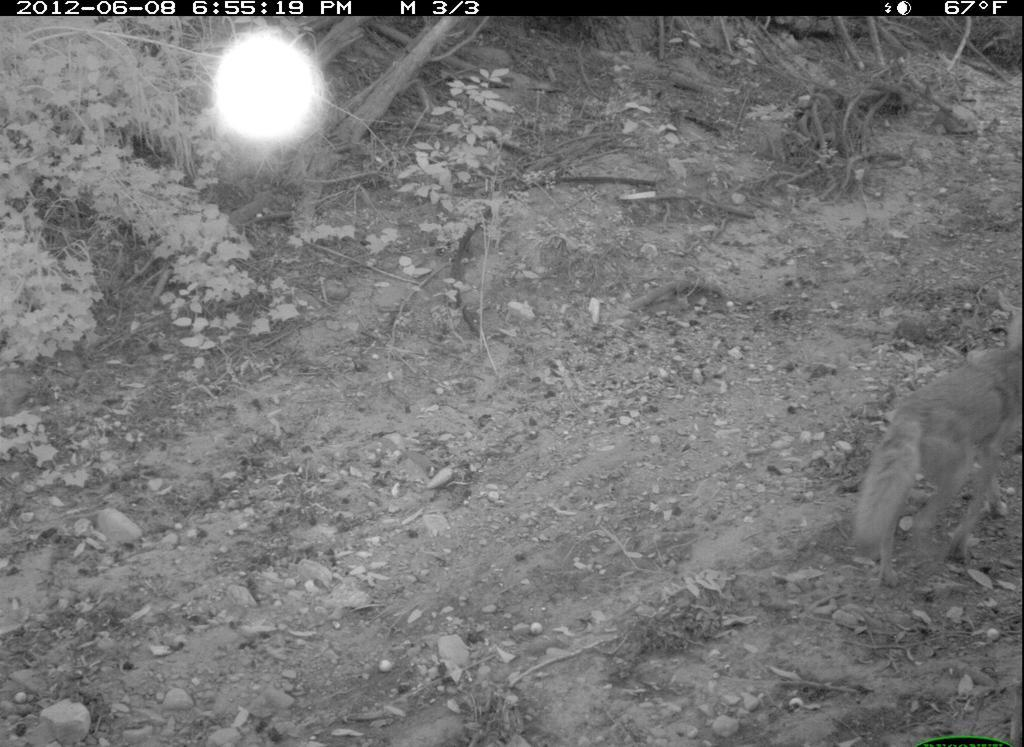coyote: (834, 309, 1022, 592)
